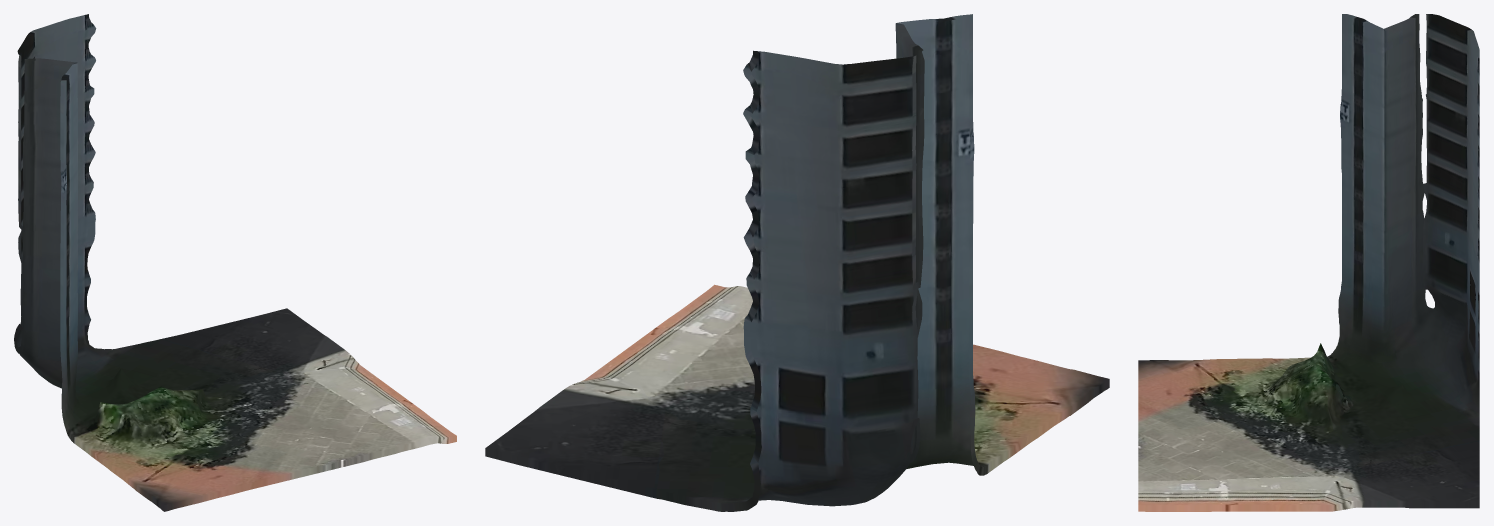
The model's file is z20-167786-405223-h0-yup-uvflip-v3-world.glb.
The picture shows the model from 3 angles, left to right: view 1: azimuth 30°, elevation 25°; view 2: azimuth 150°, elevation 25°; view 3: azimuth 270°, elevation 25°; orthographic projection. The views are drawn at different scales.
Bounding box in the file's own units: 30.16 × 34.72 × 30.32.
Materials: 1 (1 with a texture image).
